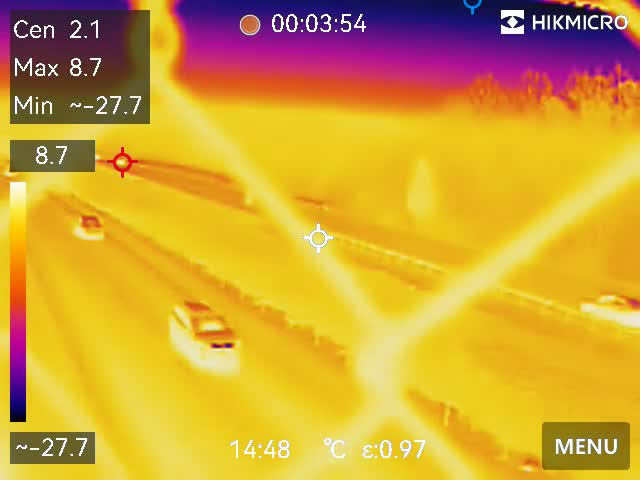largeCar: (168, 295, 237, 360)
vehicle: (576, 289, 640, 326), (69, 208, 103, 242)
